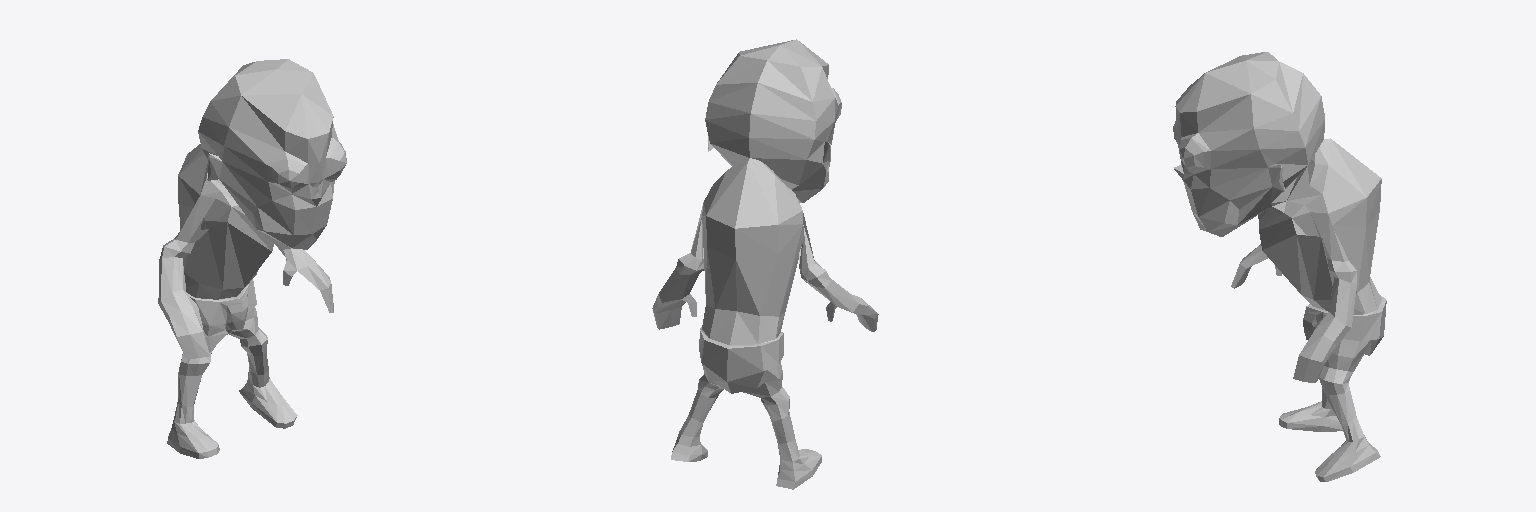
File: GuardianNormal_000049.obj
3 renders of one model, left to right at view 1: azimuth 30°, elevation 25°; view 2: azimuth 150°, elevation 25°; view 3: azimuth 270°, elevation 25°, orthographic.
Parts seen in each view (by area): view 1: untitled2:Mesh1.001; view 2: untitled2:Mesh1.001; view 3: untitled2:Mesh1.001.
Part boxes in pixels (left/top/right/bottom): untitled2:Mesh1.001: left=158, top=59, right=346, bottom=458; untitled2:Mesh1.001: left=652, top=39, right=878, bottom=489; untitled2:Mesh1.001: left=1173, top=52, right=1386, bottom=481.
Size of the model in its own units: 7.82 by 15.59 by 7.63.